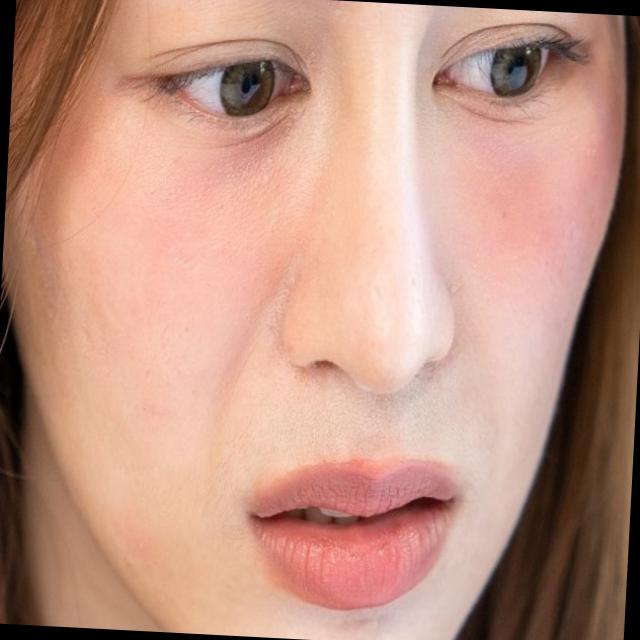redness: (461, 65, 626, 294), (105, 133, 292, 300)
